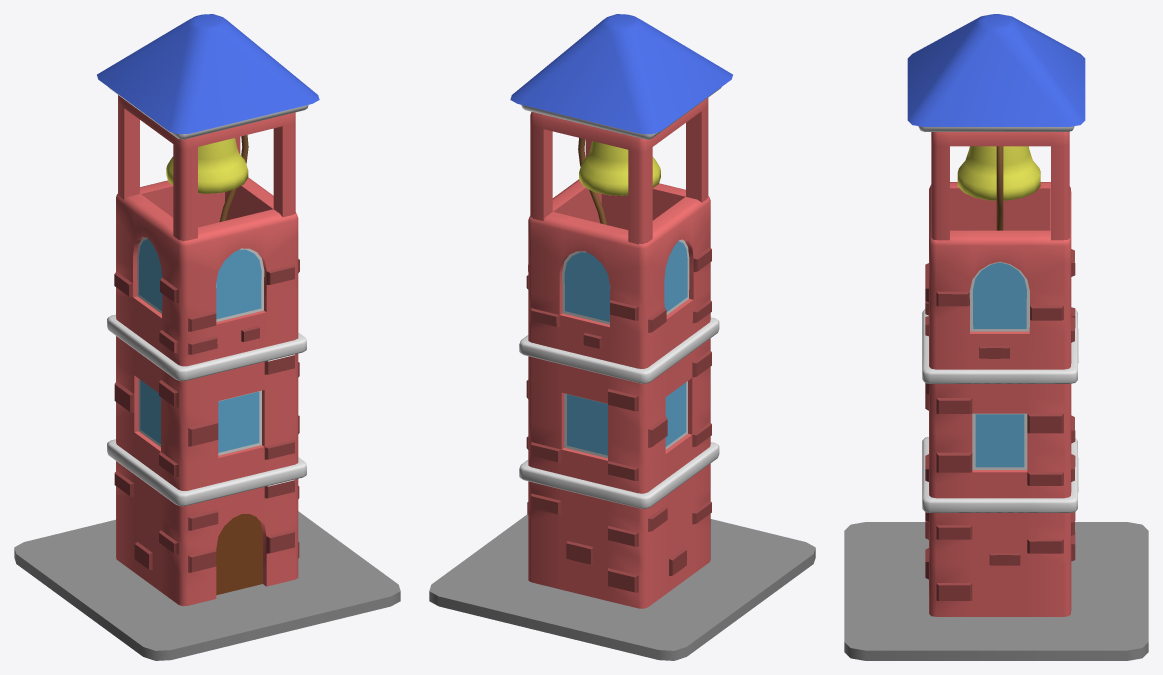
Rendered from bell tower.fbx.
3 renders of one model, left to right at view 1: azimuth 30°, elevation 25°; view 2: azimuth 150°, elevation 25°; view 3: azimuth 270°, elevation 25°, orthographic. The views are drawn at different scales.
Visible parts, largest first — view 1: Cube, Cube.015; view 2: Cube, Cube.015; view 3: Cube, Cube.015, Cube.033.
Boxes of the visible parts, x1,y1,x2,y2 form: Cube: (14,14,400,660); Cube.015: (166,138,248,193); Cube: (429,14,815,660); Cube.015: (579,141,660,195); Cube: (844,14,1148,660); Cube.015: (957,146,1040,200); Cube.033: (996,146,1003,230).
Size of the model in its own units: 19203 by 40140 by 19203.
